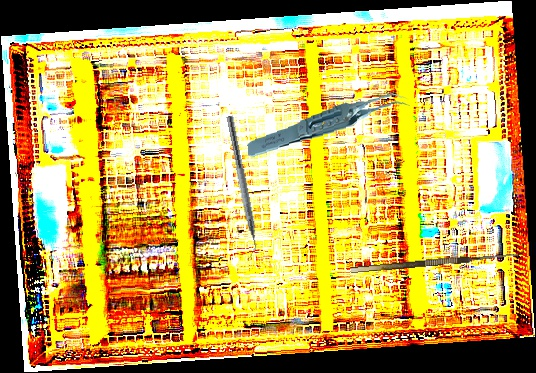Chopper: (216, 115, 264, 262)
Hook Surgical: (350, 242, 525, 274)
Tissue Forceps: (244, 91, 413, 160)
